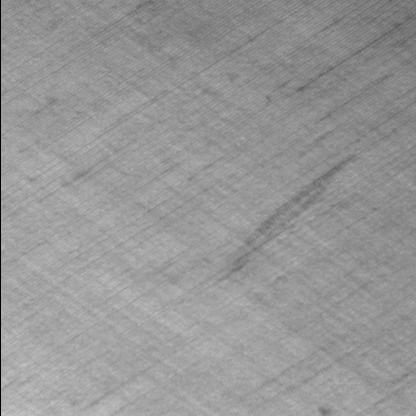oil spot: (219, 152, 358, 276)
